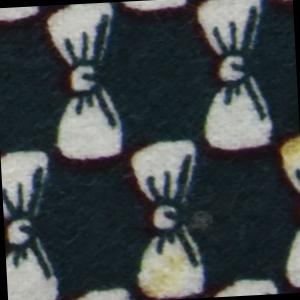Stain: (137, 250, 191, 300), (269, 126, 300, 163)
